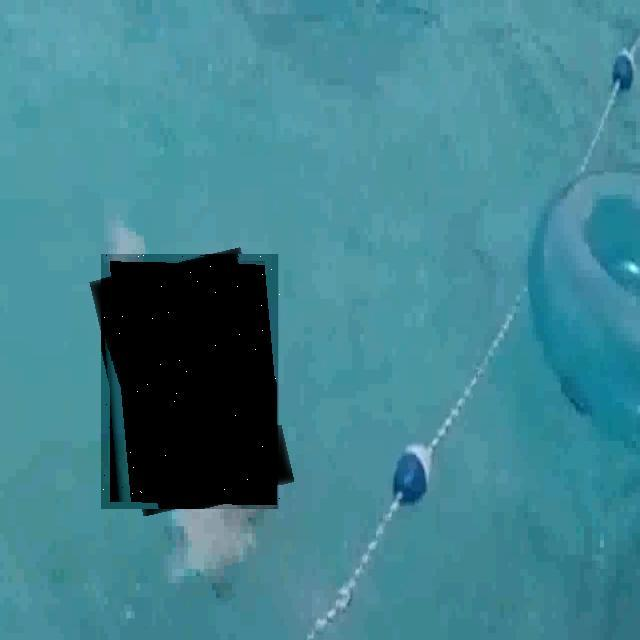Out of Water: (101, 254, 282, 509)
